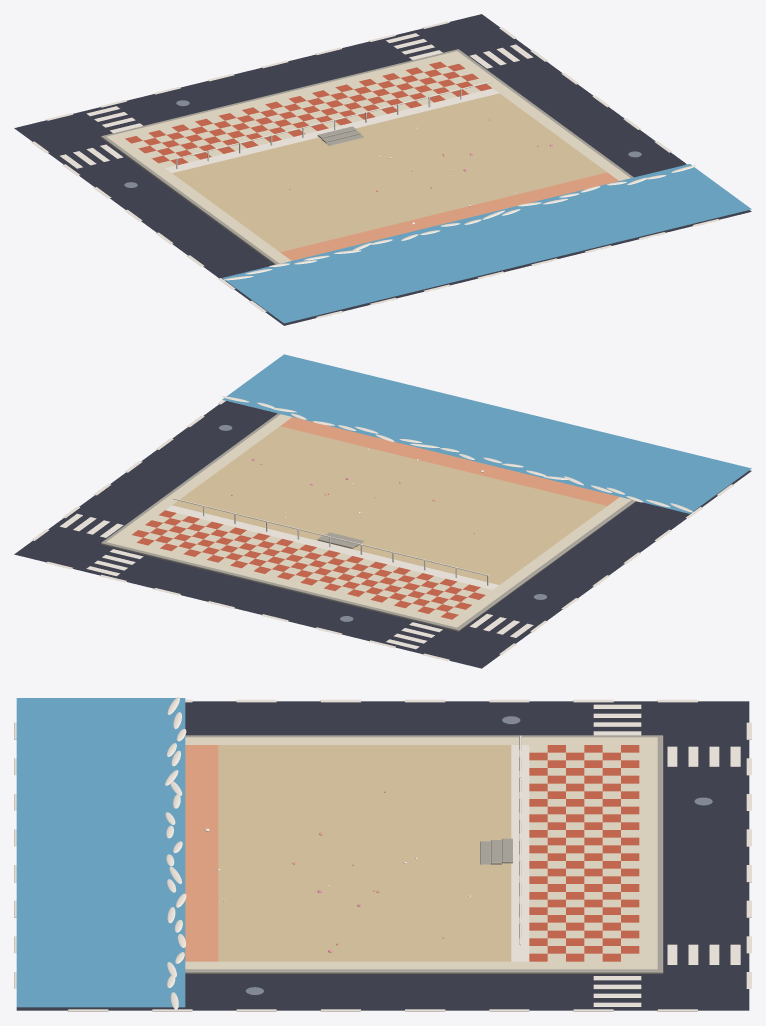
Rendered from tile_beach.glb.
3 renders of one model, top to bottom at view 1: azimuth 30°, elevation 25°; view 2: azimuth 150°, elevation 25°; view 3: azimuth 270°, elevation 25°, orthographic. The views are drawn at different scales.
Parts seen in each view (by area): view 1: tile_beach; view 2: tile_beach; view 3: tile_beach.
Part boxes in pixels (x1,y1,x2,y2): tile_beach: (14,14,751,325); tile_beach: (14,354,751,668); tile_beach: (14,697,751,1011).
Bounding box in the file's own units: 40.45 × 1.04 × 40.3.
1 material, 1 textured.
